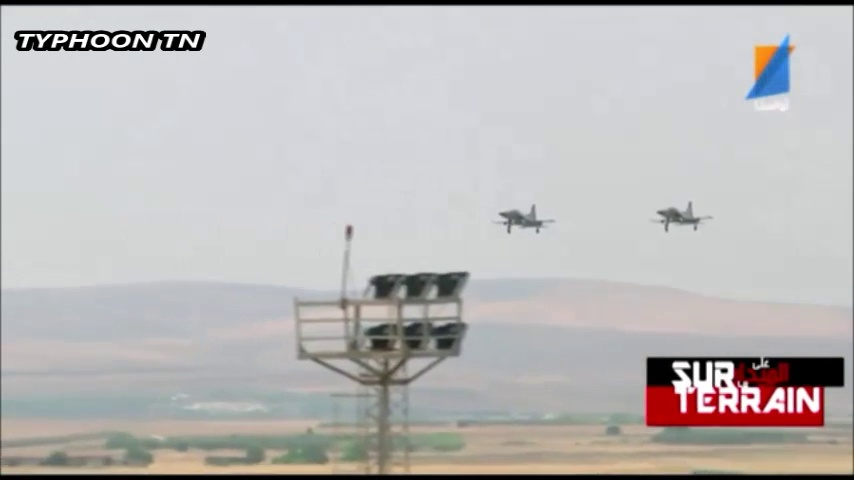Airplane: (488, 206, 558, 235)
